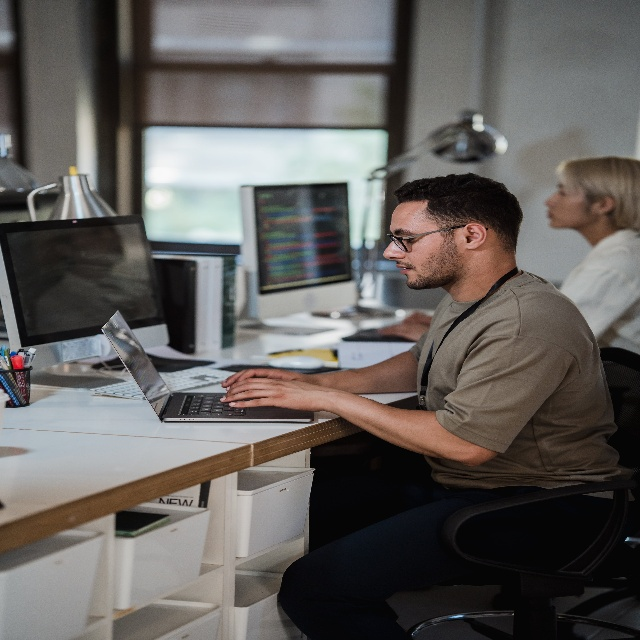Gafas: (386, 226, 466, 252)
Sin_guantes: (219, 377, 322, 412), (220, 366, 309, 389)
